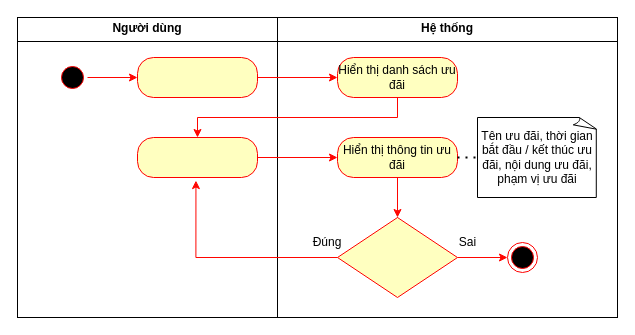
This 635x335 diagram has some shape labels left out. Each missing label, with the box of its shape:
Chọn ưu đãi: (136, 136, 258, 178)
Xem thêm thông tin nhân viên khác: (336, 216, 458, 298)
Xem ưu đãi: (136, 56, 258, 98)
